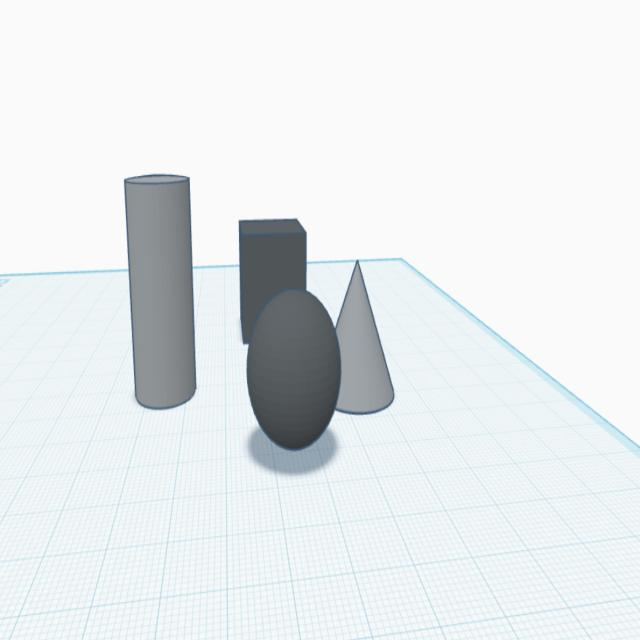sphere: (243, 284, 344, 457)
